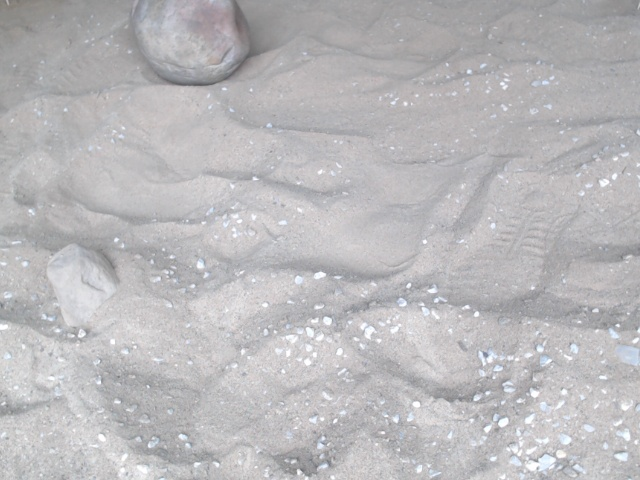rock: (124, 1, 257, 92), (42, 240, 121, 332)
